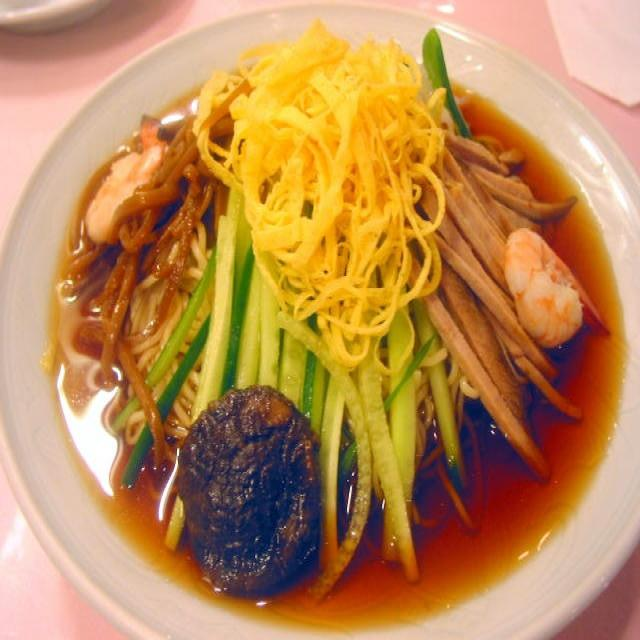面条主食: (6, 1, 636, 632)
